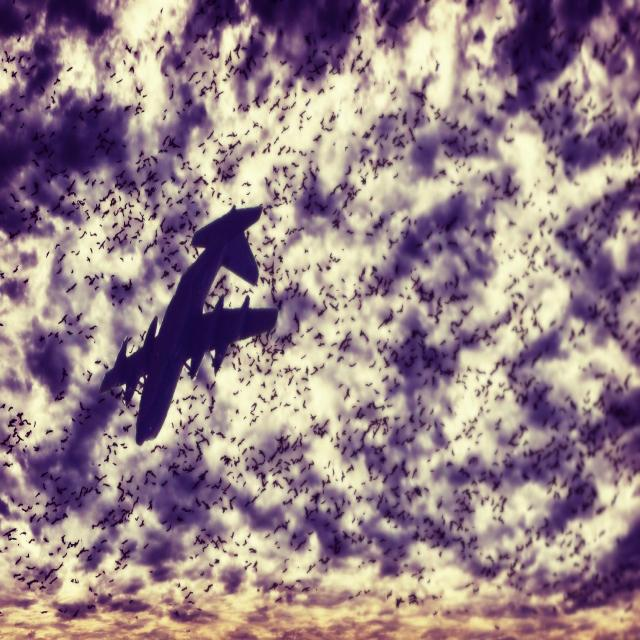airplane: (98, 203, 279, 446)
